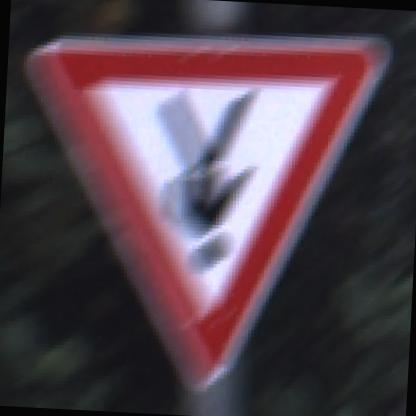crosswalk: (13, 18, 398, 398)
